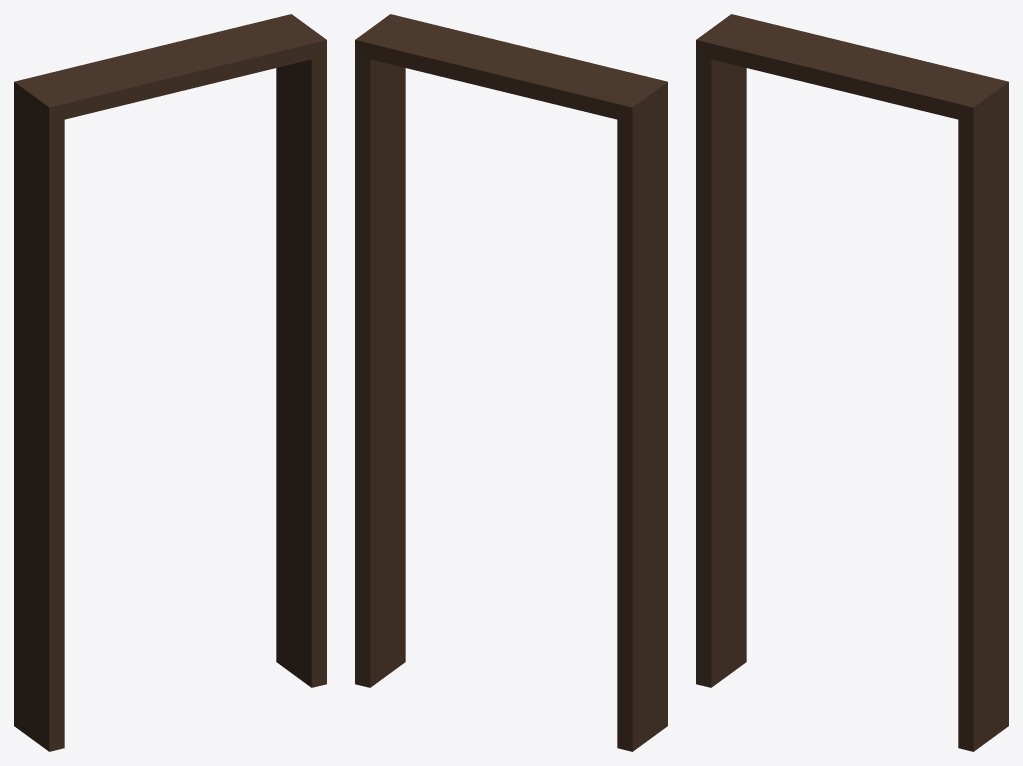
File: Doorway_Int_Frame1.fbx
3 renders of one model, left to right at view 1: azimuth 30°, elevation 25°; view 2: azimuth 150°, elevation 25°; view 3: azimuth 330°, elevation 25°, orthographic.
Parts seen in each view (by area): view 1: Door Frame (Interior); view 2: Door Frame (Interior); view 3: Door Frame (Interior).
Boxes of the visible parts, x1,y1,x2,y2 form: Door Frame (Interior): (14, 14, 326, 751); Door Frame (Interior): (355, 14, 667, 751); Door Frame (Interior): (696, 14, 1008, 751).
Size of the model in its own units: 91.57 by 203 by 20.22.
